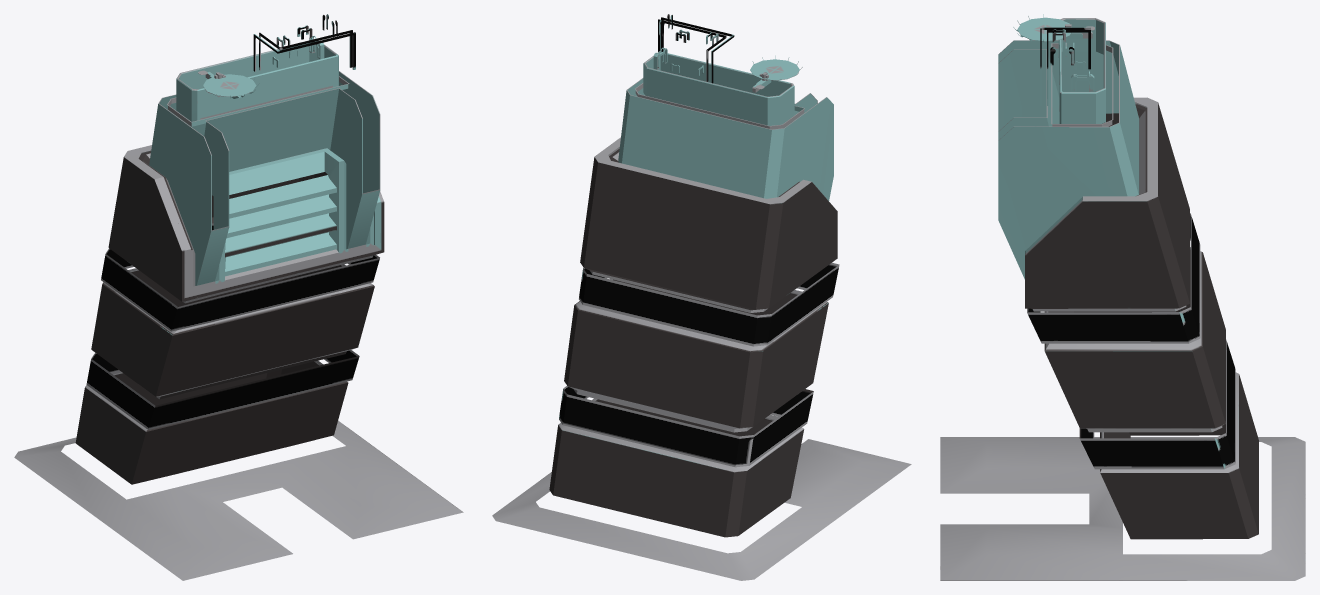
The model's file is Building_4.fbx.
3 views of the same model, side by side, from view 1: azimuth 30°, elevation 25°; view 2: azimuth 150°, elevation 25°; view 3: azimuth 270°, elevation 25° (orthographic). The views are drawn at different scales.
Visible parts, largest first — view 1: building236.002_building_metal02_0; view 2: building236.002_building_metal02_0; view 3: building236.002_building_metal02_0.
Part boxes in pixels (left/top/right/bottom): building236.002_building_metal02_0: left=14, top=14, right=463, bottom=580; building236.002_building_metal02_0: left=492, top=14, right=911, bottom=580; building236.002_building_metal02_0: left=940, top=14, right=1305, bottom=580.
Size of the model in its own units: 22.4 by 35.87 by 24.01.
